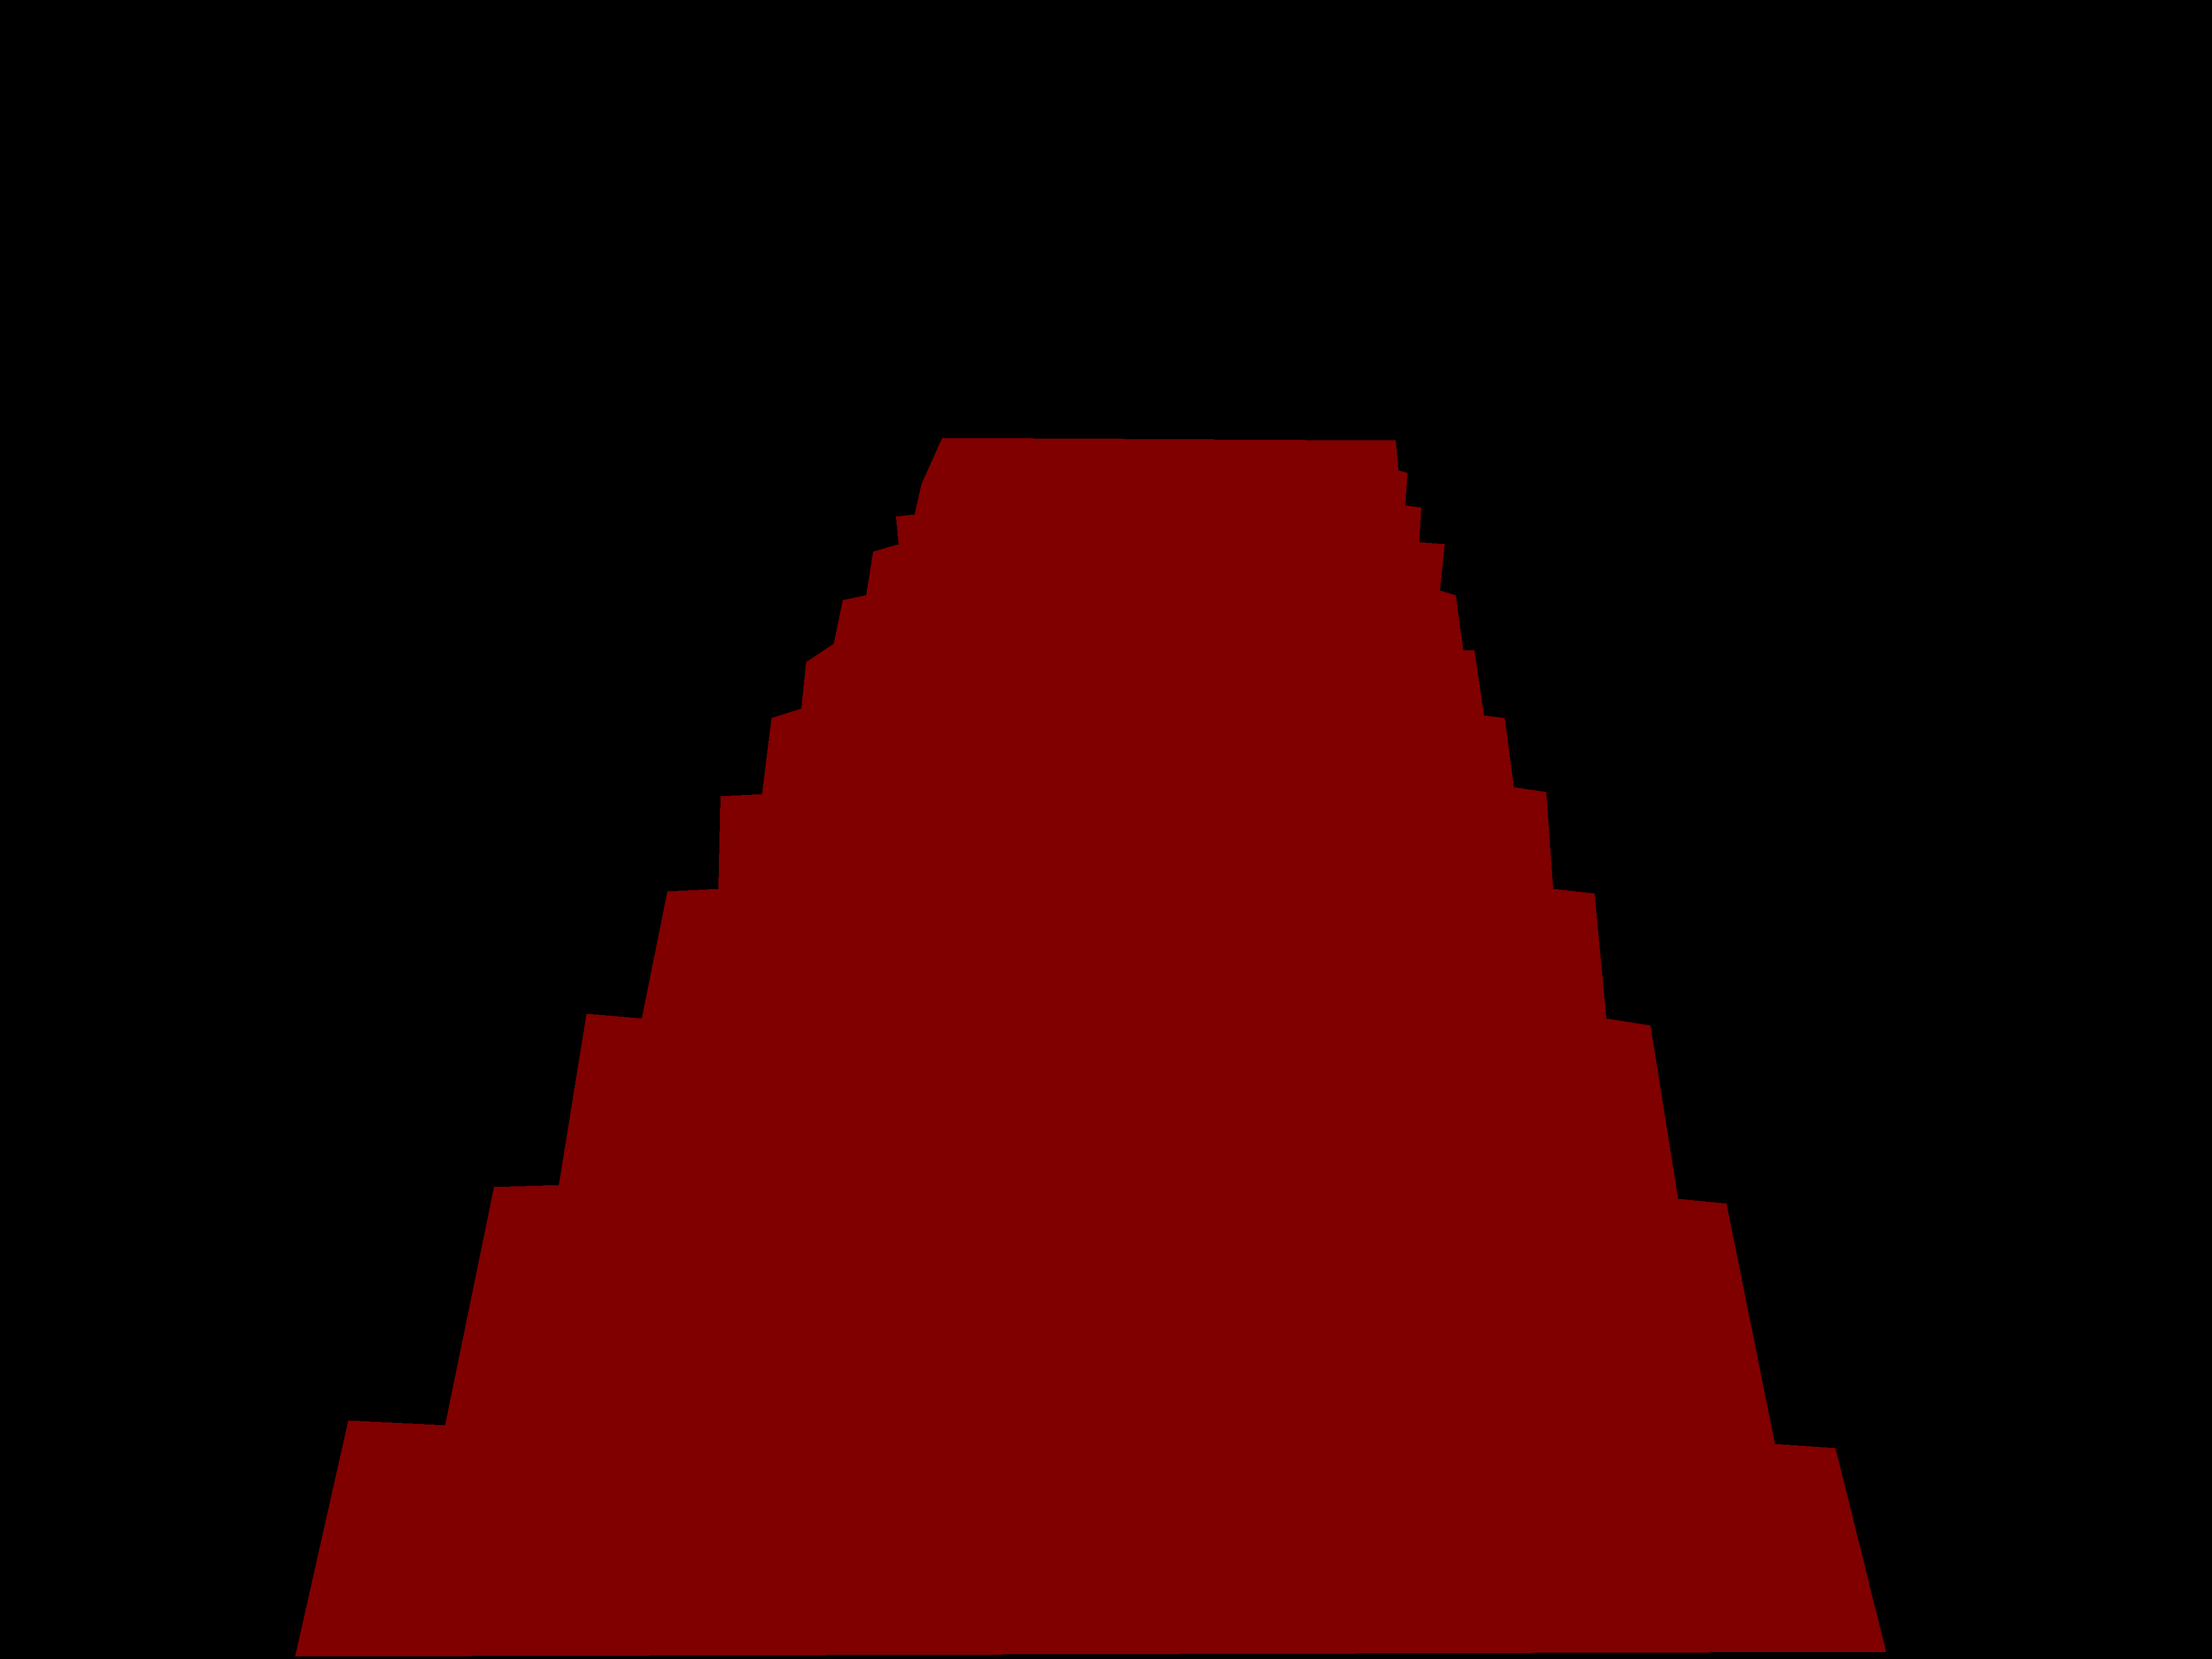stair: (294, 437, 1886, 1656)
